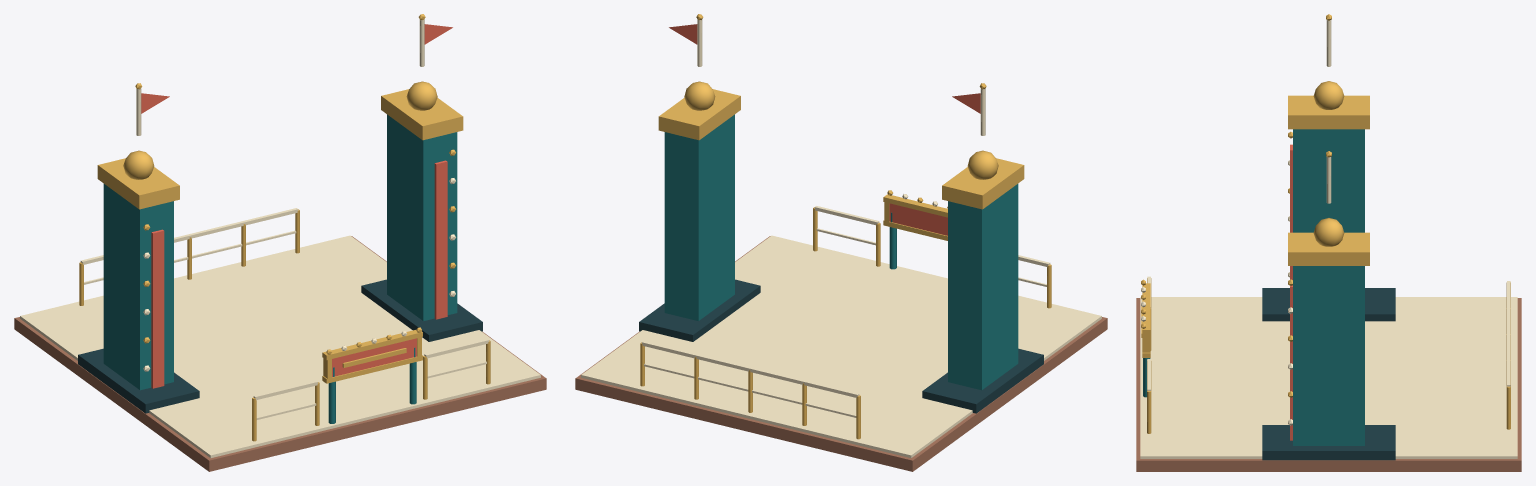
File: ride_topspin.glb
3 renders of one model, left to right at view 1: azimuth 30°, elevation 25°; view 2: azimuth 150°, elevation 25°; view 3: azimuth 270°, elevation 25°, orthographic.
Visible parts, largest first — view 1: ride_topspin; view 2: ride_topspin; view 3: ride_topspin.
Boxes of the visible parts, x1=… form: ride_topspin: x1=14, y1=14, x2=546, y2=471; ride_topspin: x1=575, y1=14, x2=1107, y2=471; ride_topspin: x1=1136, y1=14, x2=1521, y2=471.
Bounding box in the file's own units: 7.6 × 6.6 × 7.5.
